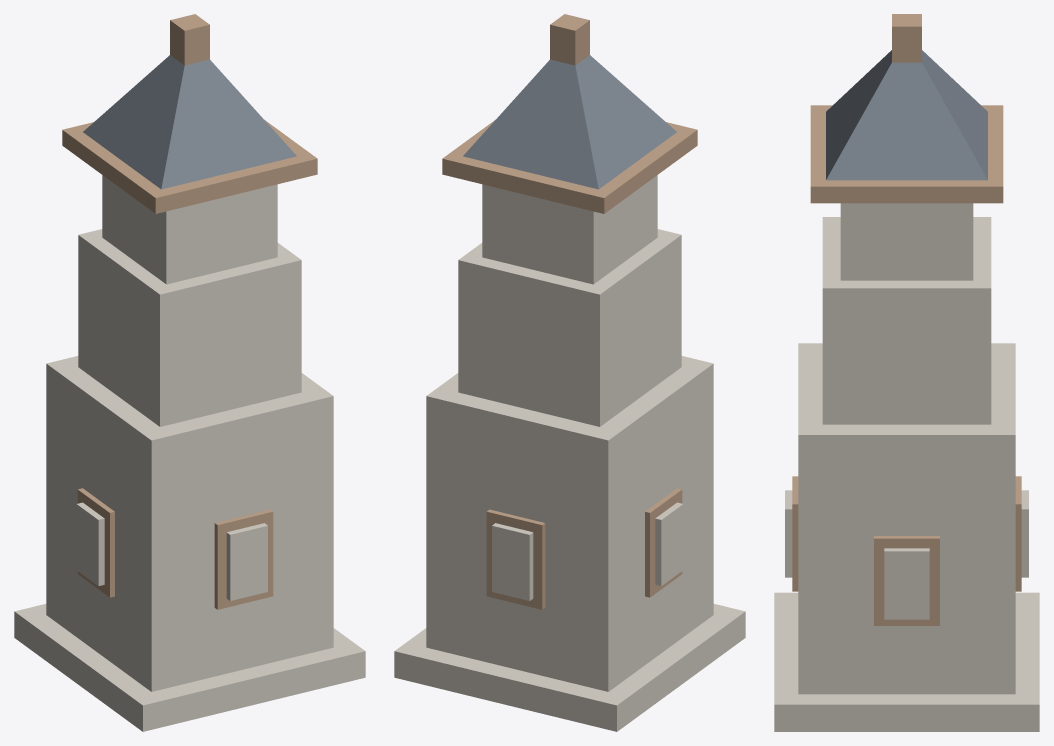
The model's file is wall-tower-b.glb.
The picture shows the model from 3 angles, left to right: view 1: azimuth 30°, elevation 25°; view 2: azimuth 150°, elevation 25°; view 3: azimuth 270°, elevation 25°; orthographic projection. The views are drawn at different scales.
Visible parts, largest first — view 1: wall-tower-b; view 2: wall-tower-b; view 3: wall-tower-b.
Boxes of the visible parts, x1=… form: wall-tower-b: x1=14, y1=14, x2=365, y2=731; wall-tower-b: x1=394, y1=14, x2=745, y2=731; wall-tower-b: x1=774, y1=14, x2=1039, y2=731.
Bounding box in the file's own units: 0.88 × 2.4 × 0.88.
